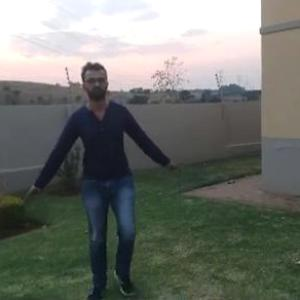land: (30, 64, 172, 284)
